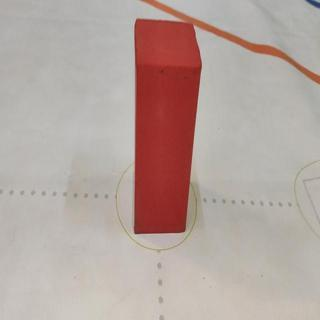redbox: (133, 18, 202, 233)
